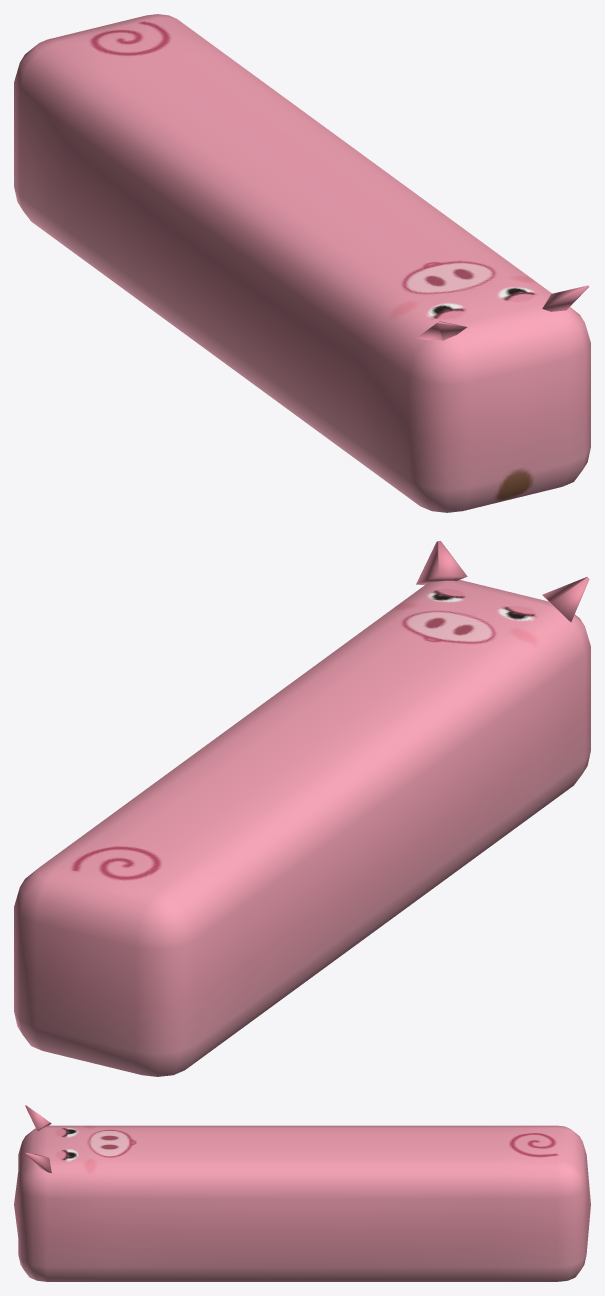
Rendered from Pig_4x1.fbx.
3 views of the same model, one above another, from view 1: azimuth 30°, elevation 25°; view 2: azimuth 150°, elevation 25°; view 3: azimuth 270°, elevation 25° (orthographic). The views are drawn at different scales.
Visible parts, largest first — view 1: Pig_4x1; view 2: Pig_4x1; view 3: Pig_4x1.
Part boxes in pixels (x1=…): Pig_4x1: x1=14, y1=14, x2=590, y2=512; Pig_4x1: x1=14, y1=541, x2=590, y2=1076; Pig_4x1: x1=14, y1=1105, x2=590, y2=1281.
Bounding box in the file's own units: 0.98 × 0.9771 × 3.98.
1 material, 1 textured.
